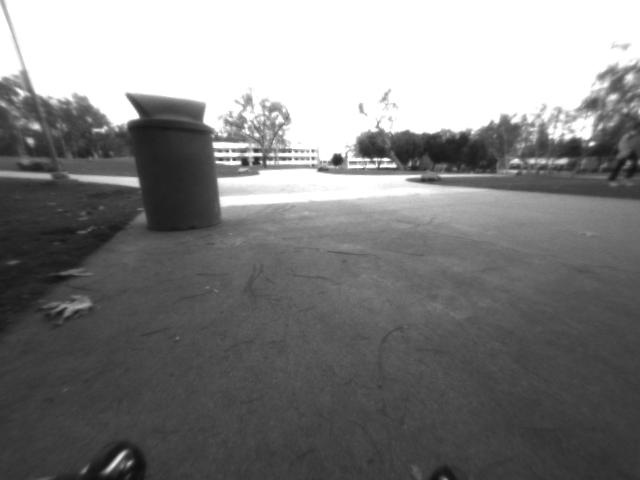trashcan: (118, 87, 227, 239)
